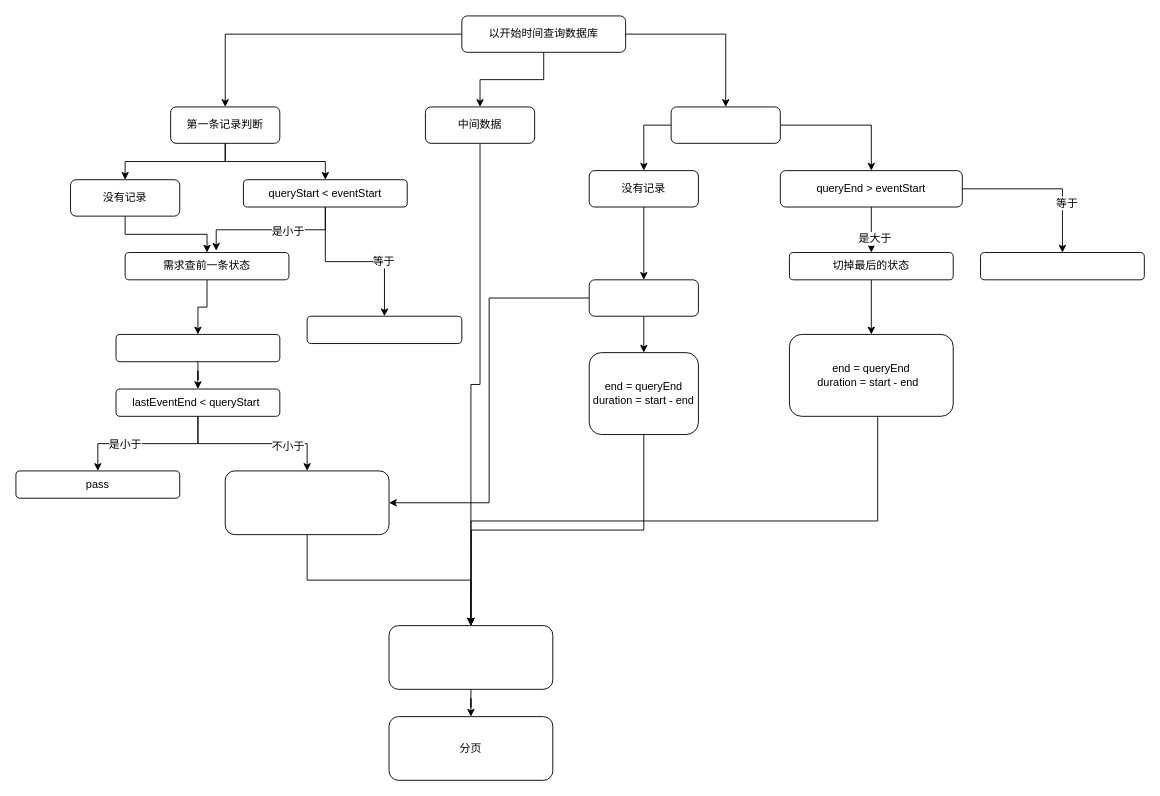
Image size: 1160x796. Some labels were removed from this diagram. The box of each missing label's shape, as (x1, y1, x2, y2) in pixels:
start = queryStart end = lastEventEnd event = lastEvent duration = start - end: (224, 470, 389, 535)
不处理: (980, 252, 1144, 280)
不需求查上一条状态: (306, 315, 462, 344)
取第一条: (588, 279, 698, 316)
最后一条记录判断: (670, 106, 780, 143)
查指定状态的最后一条状态: (115, 334, 280, 362)
组合数据: (388, 625, 553, 689)
